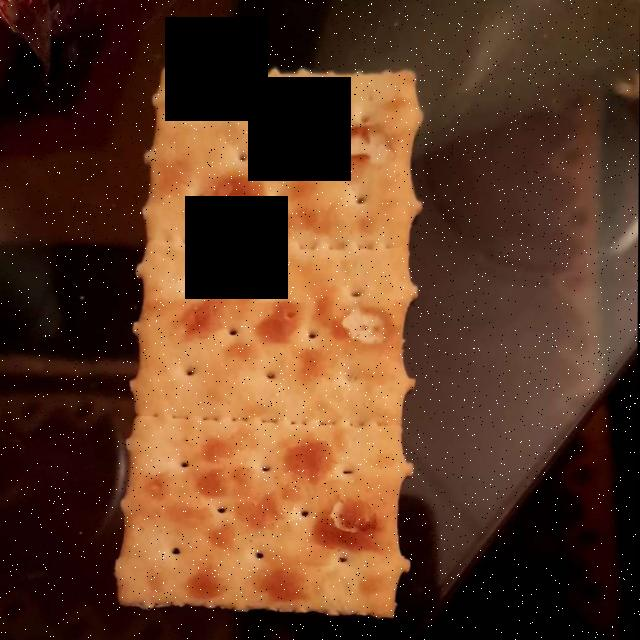crackers: (126, 73, 408, 602)
